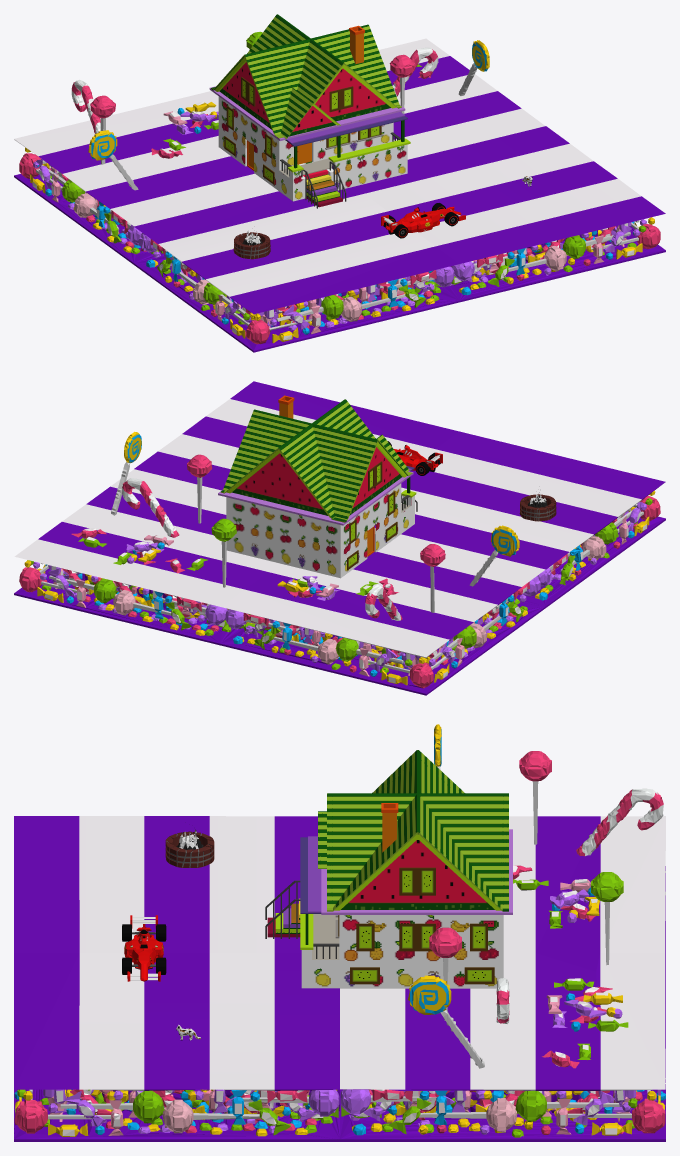
The picture shows the model from 3 angles, top to bottom: view 1: azimuth 30°, elevation 25°; view 2: azimuth 150°, elevation 25°; view 3: azimuth 270°, elevation 25°; orthographic projection. The views are drawn at different scales.
Visible parts, largest first — view 1: TERRAIN_CANDY, Cube.1063, VEHICLES_FORMULA_1, OBJRANDOM_CAMPFIRE; view 2: TERRAIN_CANDY, Cube.1063, OBJRANDOM_CAMPFIRE, VEHICLES_FORMULA_1; view 3: TERRAIN_CANDY, Cube.1063, VEHICLES_FORMULA_1, OBJRANDOM_CAMPFIRE.
Part boxes in pixels (box(x1,y1,x2,y2)): TERRAIN_CANDY: box(14, 31, 665, 352); Cube.1063: box(209, 14, 410, 208); VEHICLES_FORMULA_1: box(381, 203, 465, 238); OBJRANDOM_CAMPFIRE: box(233, 230, 270, 259); TERRAIN_CANDY: box(14, 381, 665, 695); Cube.1063: box(218, 395, 417, 578); OBJRANDOM_CAMPFIRE: box(519, 492, 556, 521); VEHICLES_FORMULA_1: box(387, 441, 442, 475); TERRAIN_CANDY: box(14, 724, 665, 1141); Cube.1063: box(265, 750, 512, 988); VEHICLES_FORMULA_1: box(122, 915, 166, 981); OBJRANDOM_CAMPFIRE: box(165, 829, 214, 867).
Size of the model in its own units: 4059 by 1607 by 4000.
Materials: 30 (5 with a texture image).
